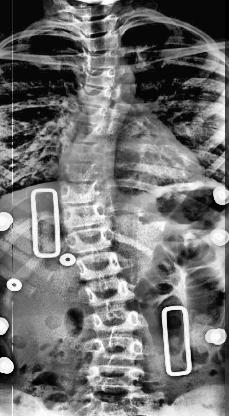Vertebrae: (87, 336, 148, 368), (85, 362, 146, 394), (86, 306, 144, 338), (80, 280, 140, 310), (63, 226, 116, 257), (58, 202, 112, 230), (76, 252, 124, 282), (56, 180, 106, 206), (56, 138, 104, 164), (54, 160, 104, 184), (72, 82, 116, 108), (66, 104, 112, 128), (62, 120, 106, 144), (77, 49, 123, 71), (76, 67, 120, 89), (74, 14, 120, 34), (80, 33, 122, 53), (71, 2, 117, 20)
